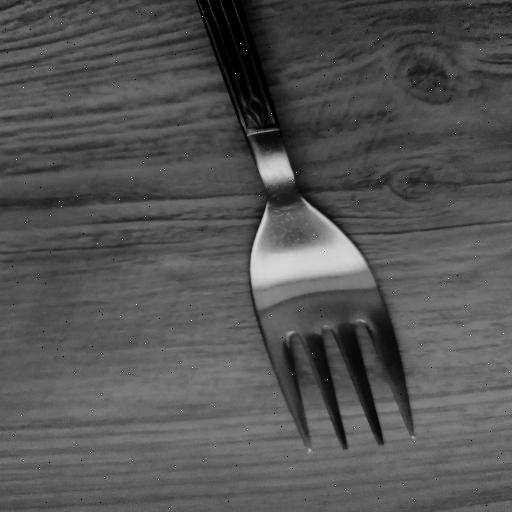fork: (188, 0, 420, 453)
